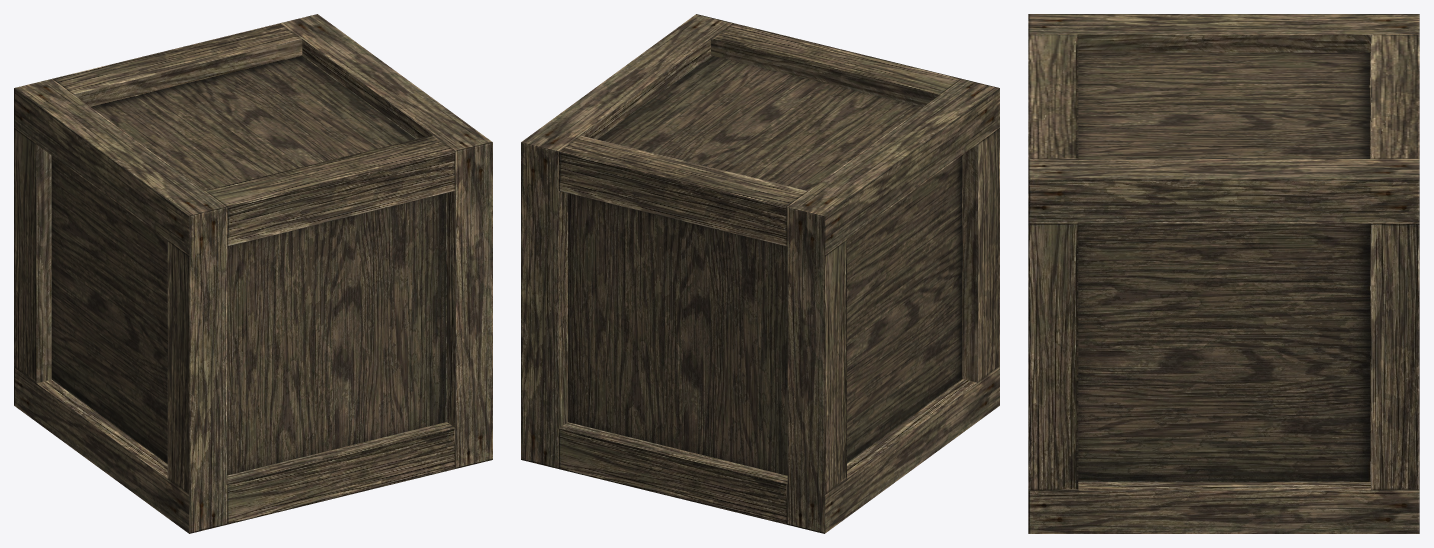
Rendered from caja 6.fbx.
The picture shows the model from 3 angles, left to right: view 1: azimuth 30°, elevation 25°; view 2: azimuth 150°, elevation 25°; view 3: azimuth 270°, elevation 25°; orthographic projection. The views are drawn at different scales.
Visible parts, largest first — view 1: polySurface12; view 2: polySurface12; view 3: polySurface12.
Boxes of the visible parts, x1,y1,x2,y2 form: polySurface12: (14, 14, 492, 533); polySurface12: (521, 14, 999, 533); polySurface12: (1028, 14, 1419, 533).
Size of the model in its own units: 4 by 4 by 4.
Materials: 1 (1 with a texture image).
